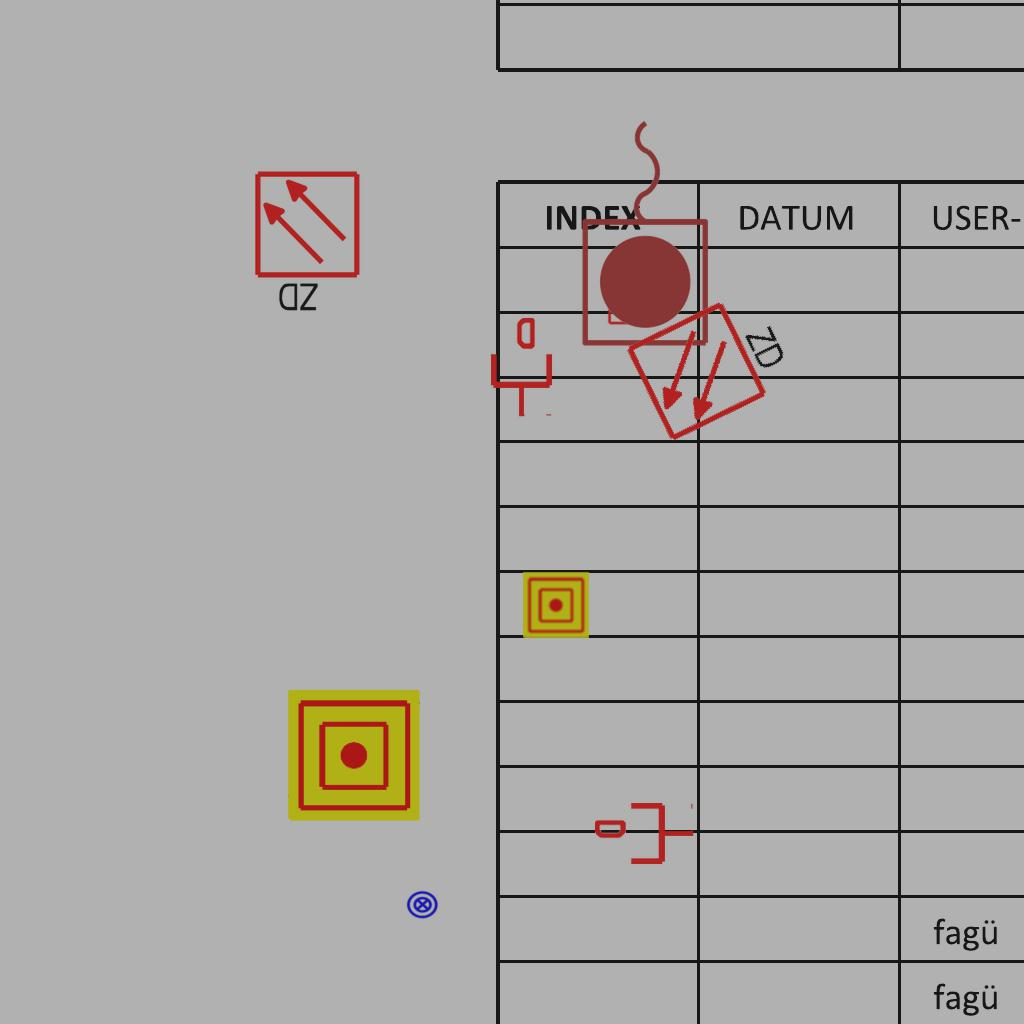Datenanschluss_einfach: (487, 318, 556, 418), (595, 799, 695, 868)
NAM-Nichtautomatischer_Melder: (288, 689, 420, 821), (523, 572, 589, 638)
Taster_beleuchtet: (406, 888, 439, 921)
ZD_Melder_in_Zwischendecke_mit_Revisionsoeffnung_mind_40_x_40_cm: (621, 277, 805, 446), (252, 169, 366, 318), (607, 269, 681, 326)
Zugtaster: (575, 110, 719, 354)
